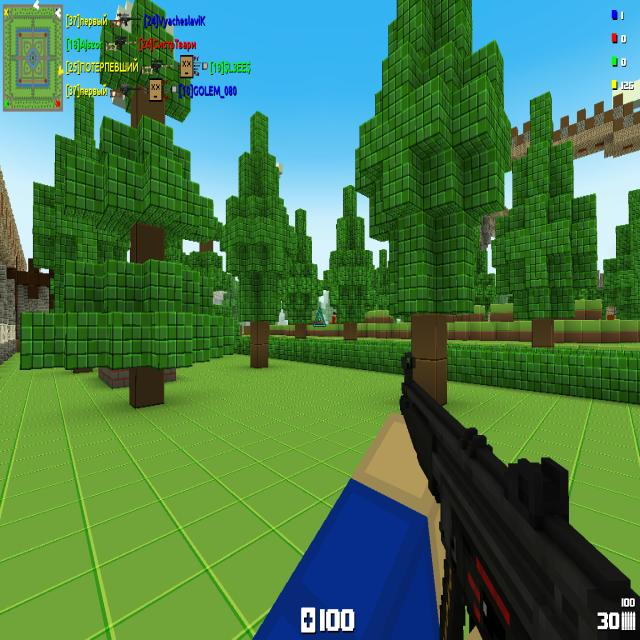enemy: (332, 312, 336, 324)
